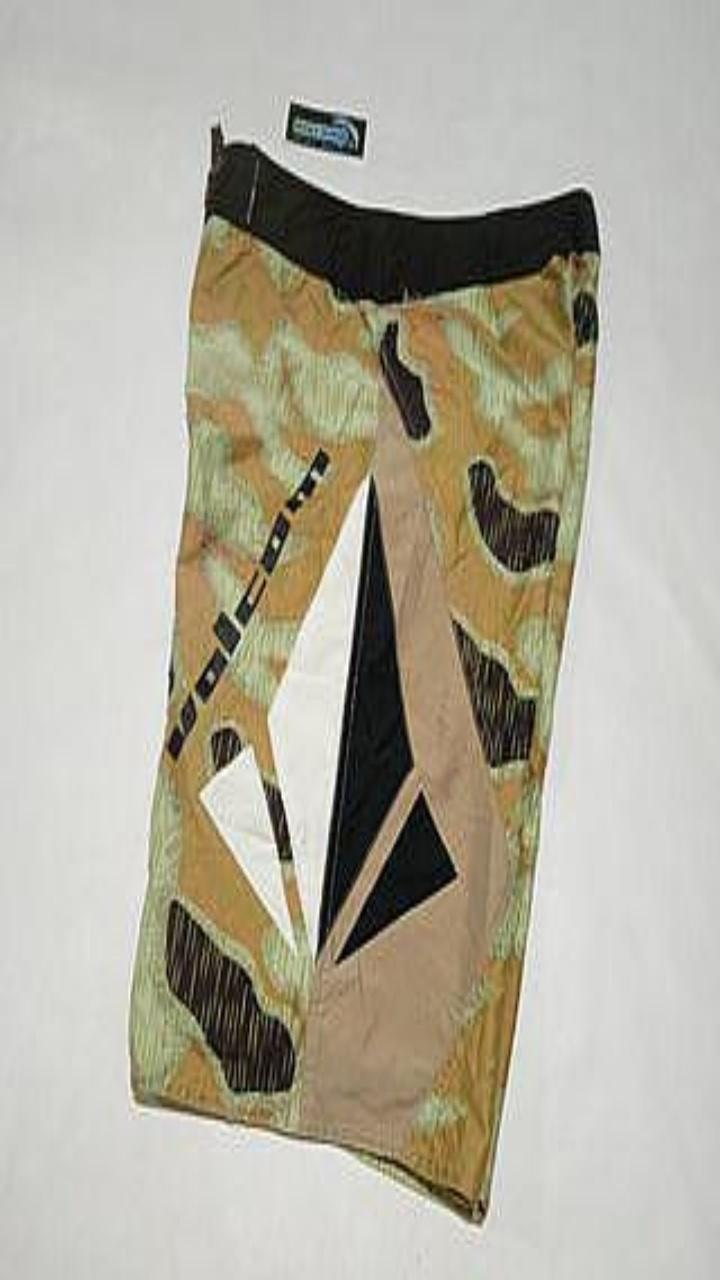Shorts: (129, 124, 598, 1221)
